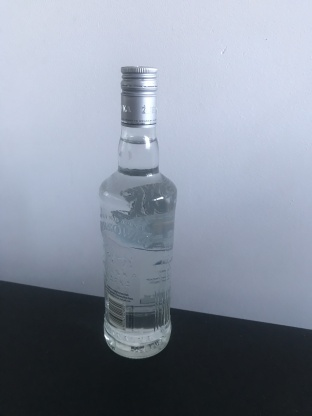nakretka: (119, 64, 158, 130)
